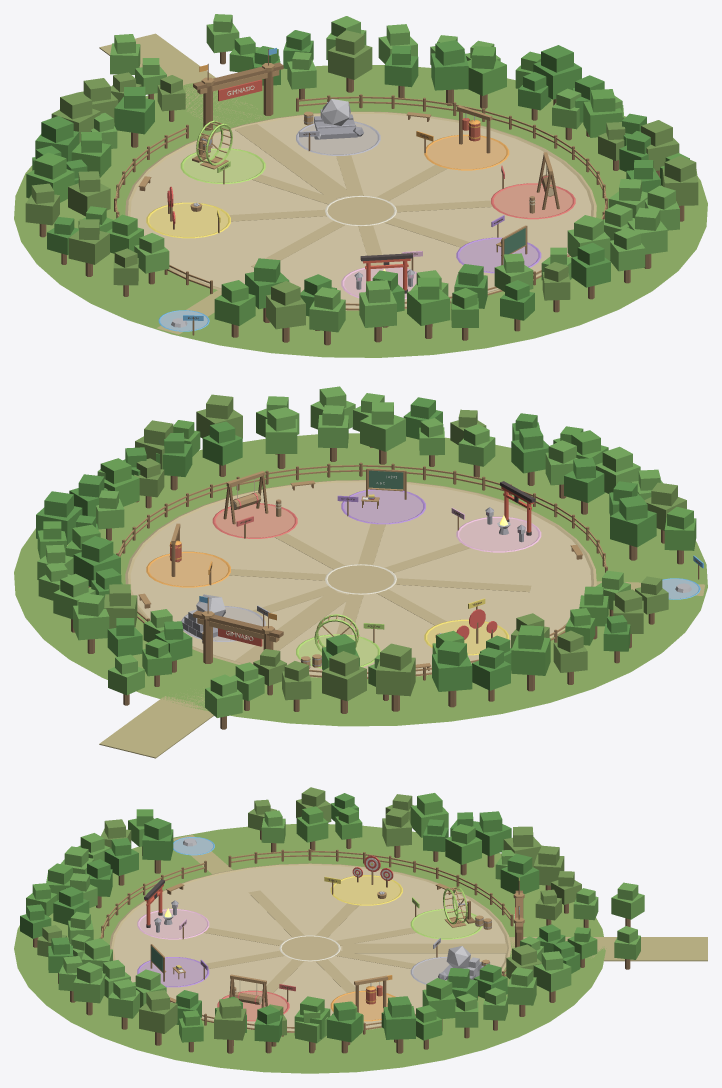
Rendered from gym.glb.
The picture shows the model from 3 angles, top to bottom: view 1: azimuth 30°, elevation 25°; view 2: azimuth 150°, elevation 25°; view 3: azimuth 270°, elevation 25°; orthographic projection. The views are drawn at different scales.
Visible parts, largest first — view 1: GymGround-col, GymArena, GymPath-col, GymSpokeEntry, Fuerza_pad, GymArenaBorder, Tecnica_pad, Vitalidad_pad, Agilidad_pad, GymCenterCircle, Inteligencia_pad, Resistencia_pad (+65 smaller); view 2: GymGround-col, GymArena, GymPath-col, GymArenaBorder, Fuerza_pad, Inteligencia_pad, Vitalidad_pad, Espiritu_pad, GymSpokeEntry, GymCenterCircle, gym_tree_crown_18, gym_tree_crown_25 (+53 smaller); view 3: GymGround-col, GymArena, GymPath-col, GymSpokeEntry, Tecnica_pad, GymArenaBorder, Espiritu_pad, Agilidad_pad, Inteligencia_pad, GymCenterCircle, gym_tree_crown_64, gym_tree_crown_33 (+50 smaller).
Part boxes in pixels (x1,y1,x2,y2): GymGround-col: (14, 65, 707, 357); GymArena: (130, 113, 591, 308); GymPath-col: (99, 33, 265, 129); GymSpokeEntry: (235, 124, 352, 198); Fuerza_pad: (427, 136, 506, 169); GymArenaBorder: (125, 111, 596, 310); Tecnica_pad: (149, 203, 227, 236); Vitalidad_pad: (494, 184, 572, 217); Agilidad_pad: (183, 149, 262, 182); GymCenterCircle: (327, 197, 394, 224); Inteligencia_pad: (459, 239, 538, 272); Resistencia_pad: (299, 123, 377, 154); GymGround-col: (14, 433, 707, 726); GymArena: (130, 482, 591, 676); GymPath-col: (99, 694, 213, 758); GymArenaBorder: (125, 480, 596, 677); Fuerza_pad: (149, 553, 227, 586); Inteligencia_pad: (344, 490, 422, 523); Vitalidad_pad: (215, 504, 294, 537); Espiritu_pad: (459, 518, 538, 551); GymSpokeEntry: (235, 591, 348, 664); GymCenterCircle: (327, 565, 394, 593); gym_tree_crown_18: (610, 510, 656, 547); gym_tree_crown_25: (360, 415, 405, 451); GymGround-col: (14, 824, 606, 1073); GymArena: (113, 865, 505, 1030); GymPath-col: (509, 937, 707, 961); GymSpokeEntry: (342, 943, 507, 953); Tecnica_pad: (333, 876, 400, 904); GymArenaBorder: (109, 863, 511, 1032); Espiritu_pad: (139, 910, 206, 938); Agilidad_pad: (413, 910, 479, 938); Inteligencia_pad: (139, 958, 206, 986); GymCenterCircle: (281, 936, 338, 960); gym_tree_crown_64: (139, 1002, 177, 1033); gym_tree_crown_33: (383, 1006, 415, 1039).
Size of what is drawn, in the model's own units: 64 by 6.71 by 75.
